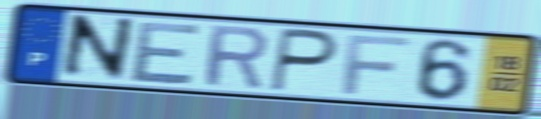6: (414, 36, 477, 105)
E: (127, 20, 205, 86)
F: (340, 33, 413, 97)
N: (55, 12, 138, 84)
P: (265, 25, 341, 96)
R: (202, 23, 271, 92)
